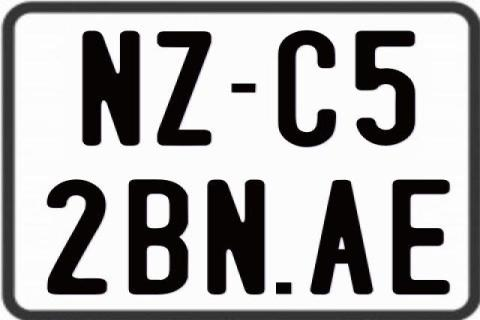0: (355, 29, 417, 150), (47, 177, 109, 297)
A: (310, 179, 377, 299)
B: (128, 179, 192, 295)
C: (277, 29, 335, 149)
E: (392, 179, 454, 297)
N: (80, 28, 144, 143), (205, 180, 266, 300)
Z: (158, 29, 218, 145)
